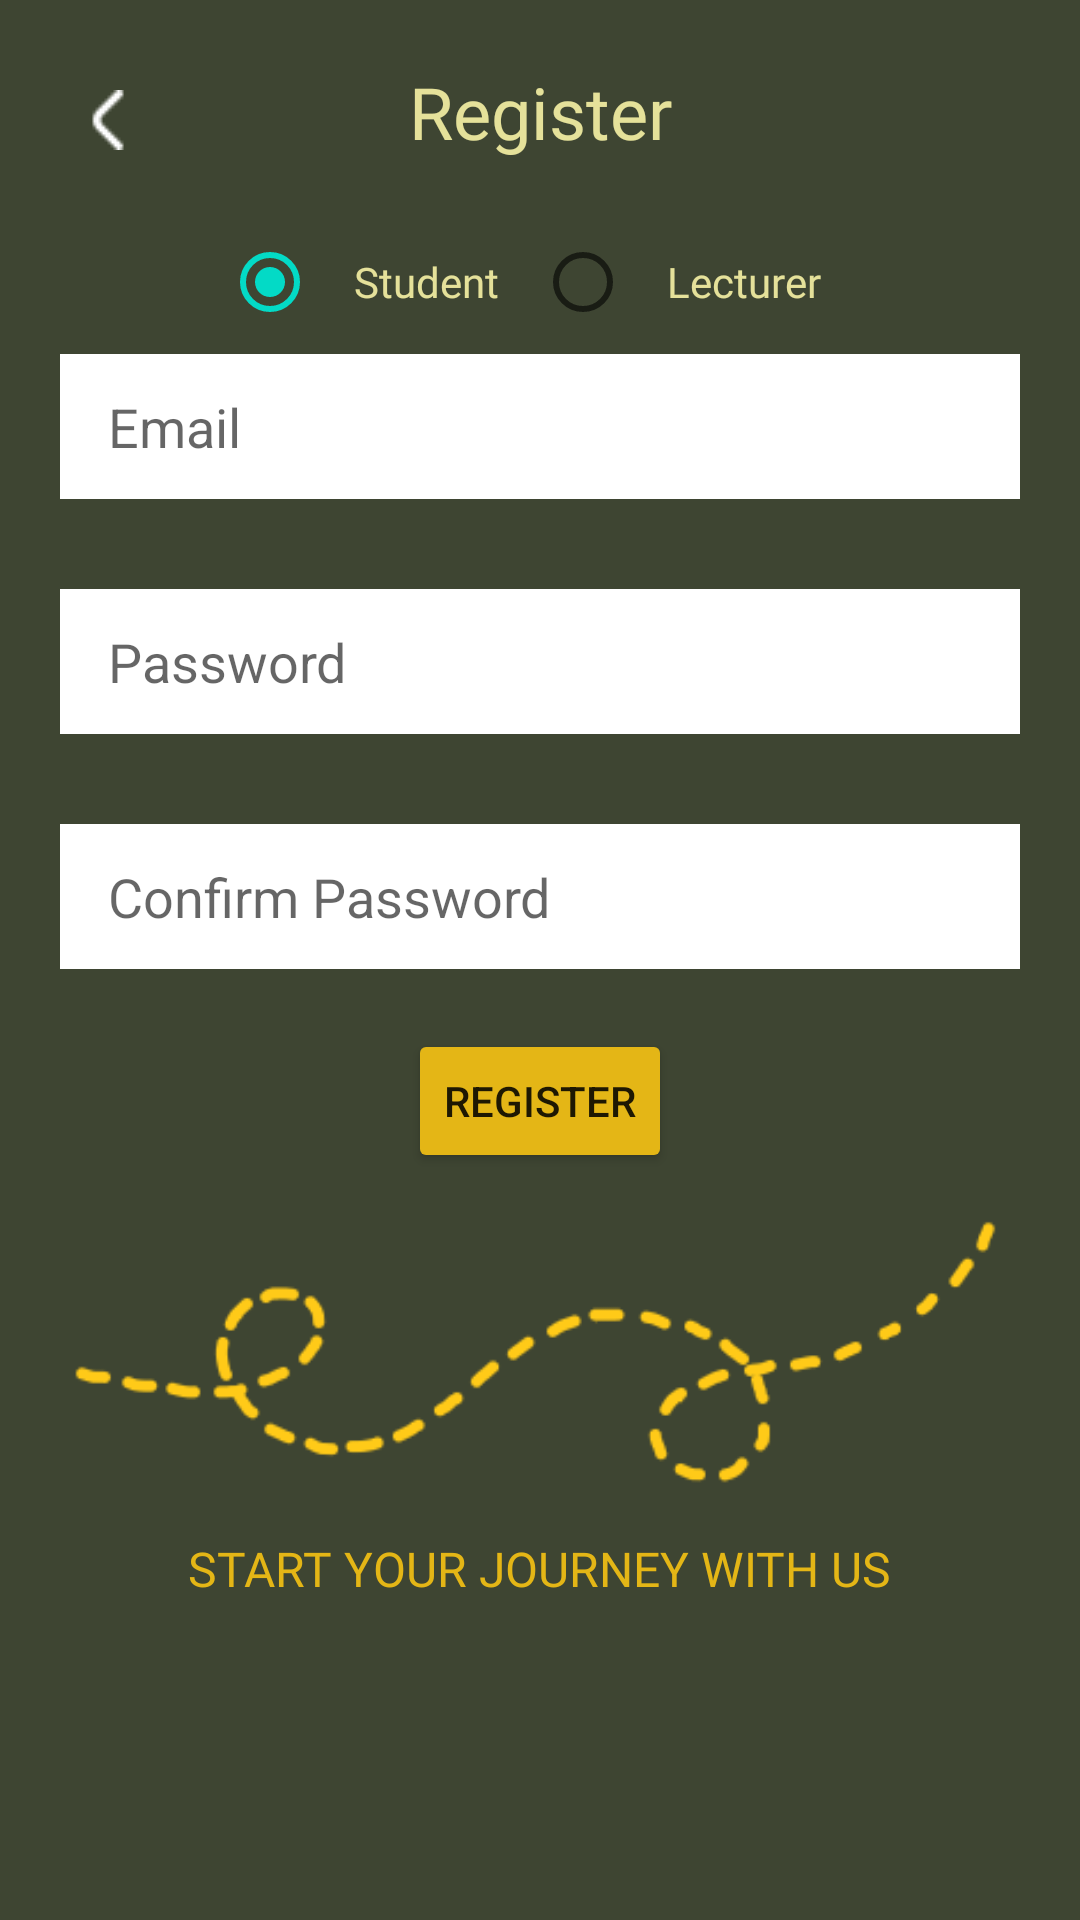

Icons on this 1080*1920 Android screen, each with its box as [x1=x1, y1=y1, x2=x2, y2=y2]:
angle left: [x1=92, y1=90, x2=124, y2=150]
